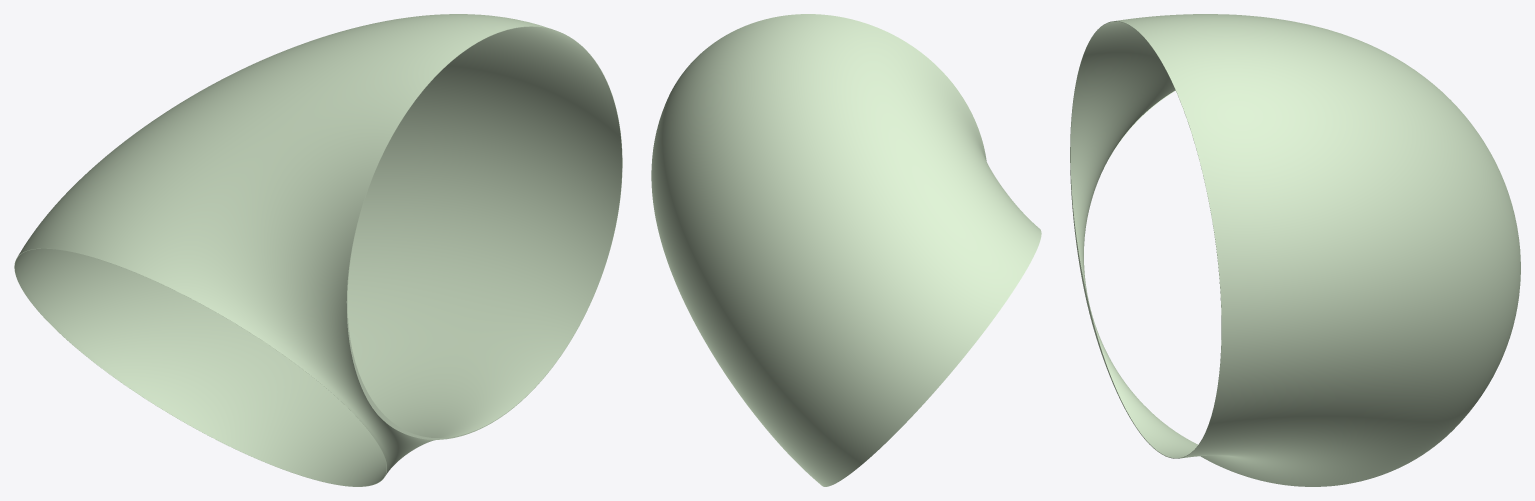
The model's file is Joint_3_1.fbx.
3 renders of one model, left to right at view 1: azimuth 30°, elevation 25°; view 2: azimuth 150°, elevation 25°; view 3: azimuth 270°, elevation 25°, orthographic. The views are drawn at different scales.
Parts seen in each view (by area): view 1: Joint_3.005; view 2: Joint_3.005; view 3: Joint_3.005.
Boxes of the visible parts, x1=… form: Joint_3.005: x1=14, y1=14, x2=622, y2=486; Joint_3.005: x1=651, y1=14, x2=1041, y2=486; Joint_3.005: x1=1070, y1=14, x2=1520, y2=486.
Bounding box in the file's own units: 16.09 × 14.33 × 11.82.
